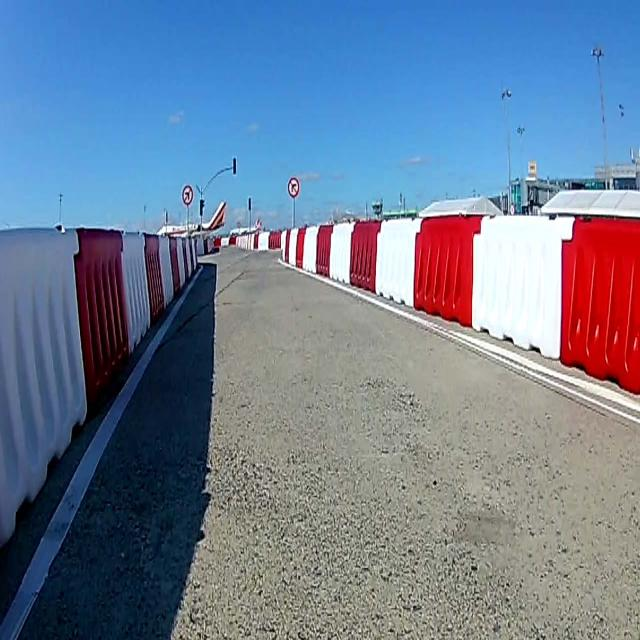sagadonulmez: (288, 176, 300, 197)
soladonulmez: (182, 186, 193, 204)
